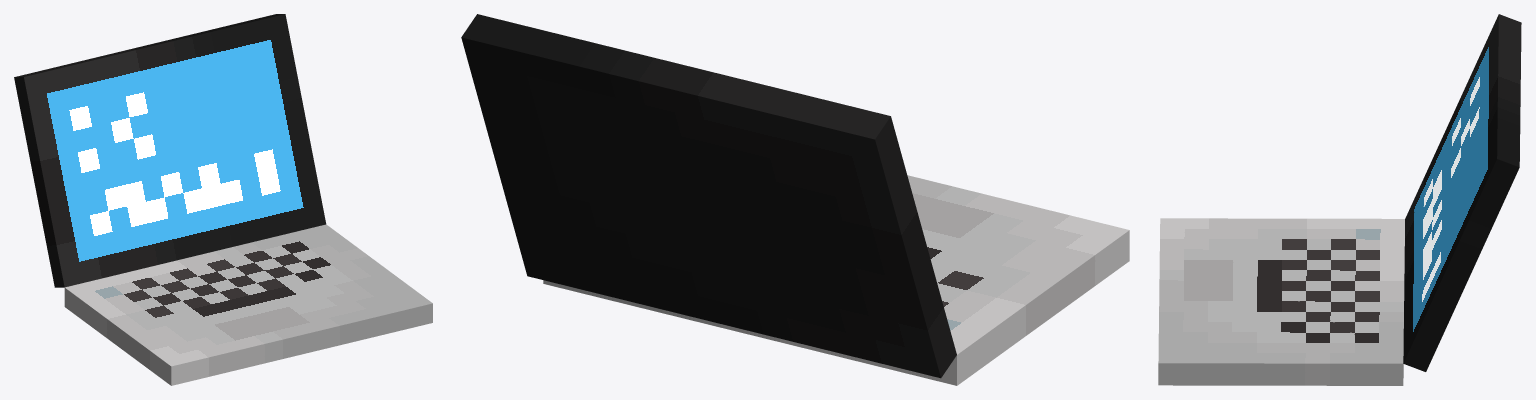
The model's file is laptop-804ea735.glb.
The picture shows the model from 3 angles, left to right: view 1: azimuth 30°, elevation 25°; view 2: azimuth 150°, elevation 25°; view 3: azimuth 270°, elevation 25°; orthographic projection. The views are drawn at different scales.
Parts seen in each view (by area): view 1: 683e043a-e498-47f4-e40b-be2ed29d5d63_0, d4db0465-94c2-d378-e889-f3ffe6727981_1; view 2: 683e043a-e498-47f4-e40b-be2ed29d5d63_0, d4db0465-94c2-d378-e889-f3ffe6727981_1; view 3: d4db0465-94c2-d378-e889-f3ffe6727981_1, 683e043a-e498-47f4-e40b-be2ed29d5d63_0.
Part boxes in pixels (x1,y1,x2,y2): 683e043a-e498-47f4-e40b-be2ed29d5d63_0: (14,14,326,287); d4db0465-94c2-d378-e889-f3ffe6727981_1: (64,224,432,385); 683e043a-e498-47f4-e40b-be2ed29d5d63_0: (461,14,956,378); d4db0465-94c2-d378-e889-f3ffe6727981_1: (543,175,1129,385); d4db0465-94c2-d378-e889-f3ffe6727981_1: (1158,218,1404,385); 683e043a-e498-47f4-e40b-be2ed29d5d63_0: (1403,14,1521,371).
Size of the model in its own units: 14.08 by 10.24 by 14.82.
4 materials, 4 textured.
